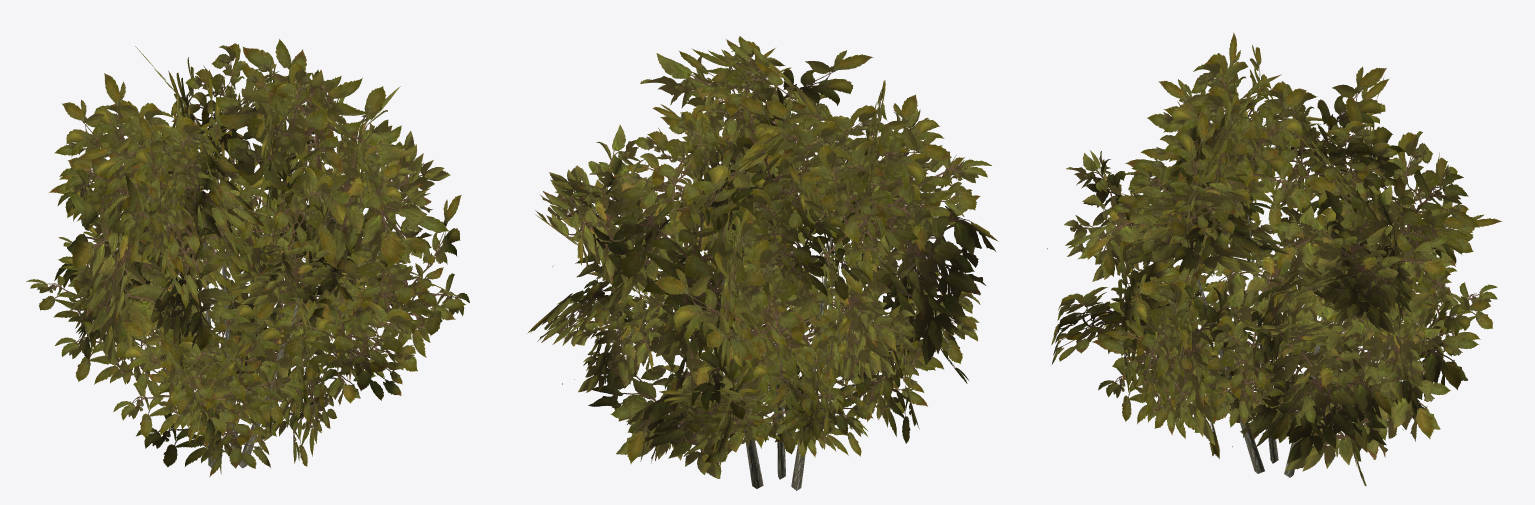
File: Vegetation_Shruds04.glb
3 renders of one model, left to right at view 1: azimuth 30°, elevation 25°; view 2: azimuth 150°, elevation 25°; view 3: azimuth 270°, elevation 25°, orthographic. The views are drawn at different scales.
Parts seen in each view (by area): view 1: zw_shruds_04; view 2: zw_shruds_04; view 3: zw_shruds_04.
Boxes of the visible parts, x1,y1,x2,y2 form: zw_shruds_04: (26,39,469,477); zw_shruds_04: (527,36,998,490); zw_shruds_04: (1047,32,1502,486).
Size of the model in its own units: 2.26 by 2.3 by 2.3.
1 material, 1 textured.
